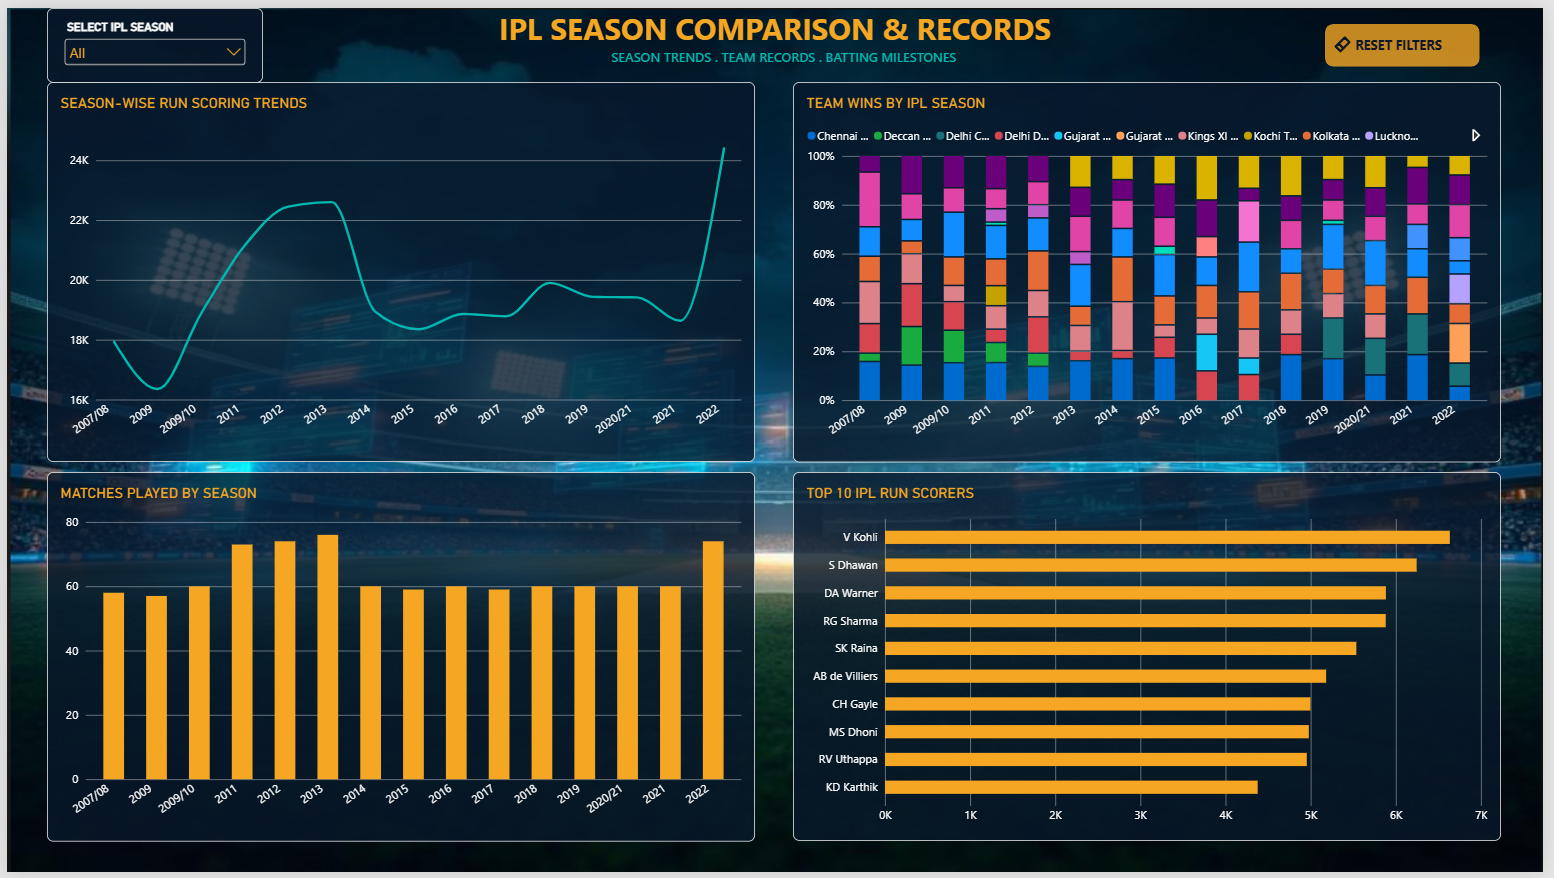

The dashboard page shown, as its layout file describes it:
{"tool":"powerbi","page":{"name":"Season & Records","canvas":[1920,1080],"ordinal":5},"visuals":[{"type":"textbox","box":[585,0,750,93.3],"z":0},{"type":"lineChart","title":"SEASON-WISE RUN SCORING TRENDS","fields":{"Category":["ipl-matches.Season"],"Y":["Sum(IPL_Ball_by_Ball_2008_2022.total_run)"]},"box":[50.8,93.8,885,475],"z":0,"group":"g1"},{"type":"clusteredColumnChart","title":"MATCHES PLAYED BY SEASON","fields":{"Category":["ipl-matches.Season"],"Y":["CountNonNull(ipl-matches.ID)"]},"box":[51,579.8,885,462],"z":0,"group":"g2"},{"type":"hundredPercentStackedColumnChart","title":"TEAM WINS BY IPL SEASON","fields":{"Category":["ipl-matches.Season"],"Series":["ipl-matches.WinningTeam"],"Y":["CountNonNull(ipl-matches.ID)"]},"box":[984.1,93.3,885,475.7],"z":1000,"group":"g1"},{"type":"clusteredBarChart","title":"TOP 10 IPL RUN SCORERS","fields":{"Category":["batsman_runs_ipl.batter"],"Y":["Sum(batsman_runs_ipl.batsman_run)"]},"box":[984.1,580.5,885,461],"z":1000,"group":"g2"},{"type":"group","id":"g1","title":"Group 1","box":[50.8,93.3,1818.3,475],"z":2000},{"type":"group","id":"g2","title":"Group 2","box":[51,579.8,1818.1,462],"z":3000},{"type":"slicer","fields":{"Values":["ipl-matches.Season"]},"box":[50,0,270,93.3],"z":8000},{"type":"actionButton","box":[1646.7,20,193.3,53.3],"z":10000}]}

Visuals, with their boxes in screenshot pixels (x1, y1, x2, y2), scaled from the page's 1920x1080 canvas onto the 1554x878 screenshot:
textbox: detection(473, 0, 1081, 76)
"SEASON-WISE RUN SCORING TRENDS" lineChart: detection(41, 76, 757, 462)
"MATCHES PLAYED BY SEASON" clusteredColumnChart: detection(41, 471, 758, 847)
"TEAM WINS BY IPL SEASON" hundredPercentStackedColumnChart: detection(797, 76, 1513, 463)
"TOP 10 IPL RUN SCORERS" clusteredBarChart: detection(797, 472, 1513, 847)
"Group 1" group: detection(41, 76, 1513, 462)
"Group 2" group: detection(41, 471, 1513, 847)
slicer - ipl-matches.Season: detection(40, 0, 259, 76)
actionButton: detection(1333, 16, 1489, 60)
